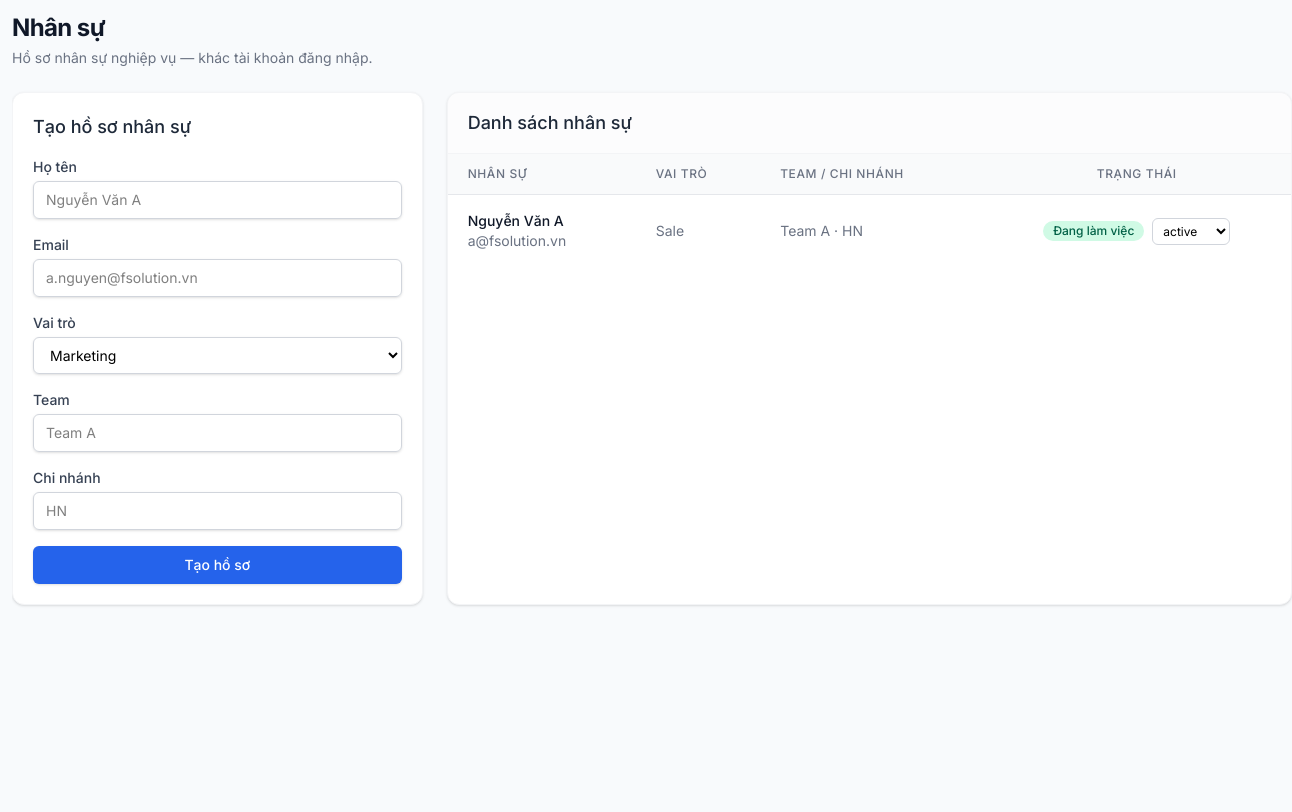
Scenario: EmployeesPage › hiển thị danh sách nhân sự và tạo mới qua form
The image size is (1292, 812).
expect the text "Nguyễn Văn A" is shown: met, box top-left (468, 212), bottom-right (564, 229)
Step 1. Type "Trần Thị B" into the field labelled "Họ tên" → {"x": 217, "y": 200}, box top-left (33, 181), bottom-right (402, 219)
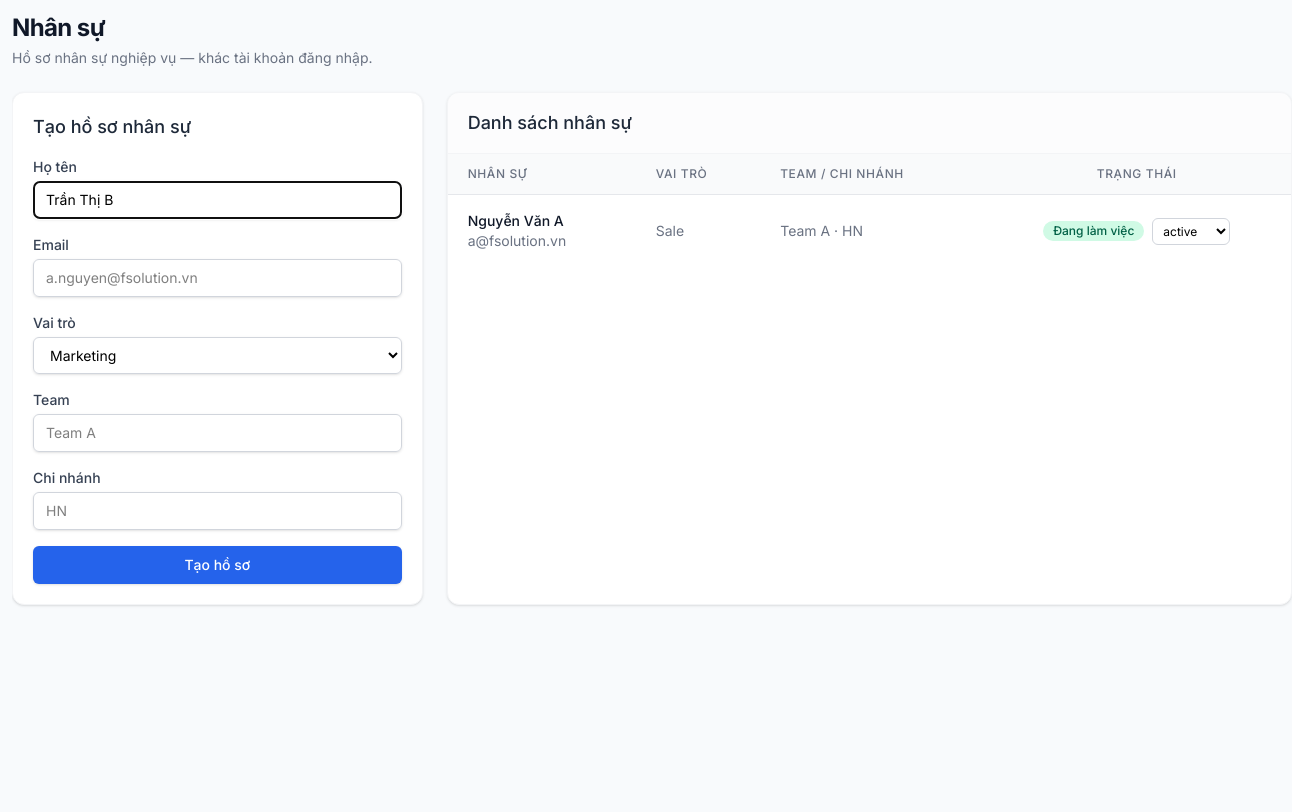
Step 2. Type "b@fsolution.vn" into the field labelled "Email" → {"x": 217, "y": 278}, box top-left (33, 259), bottom-right (402, 297)
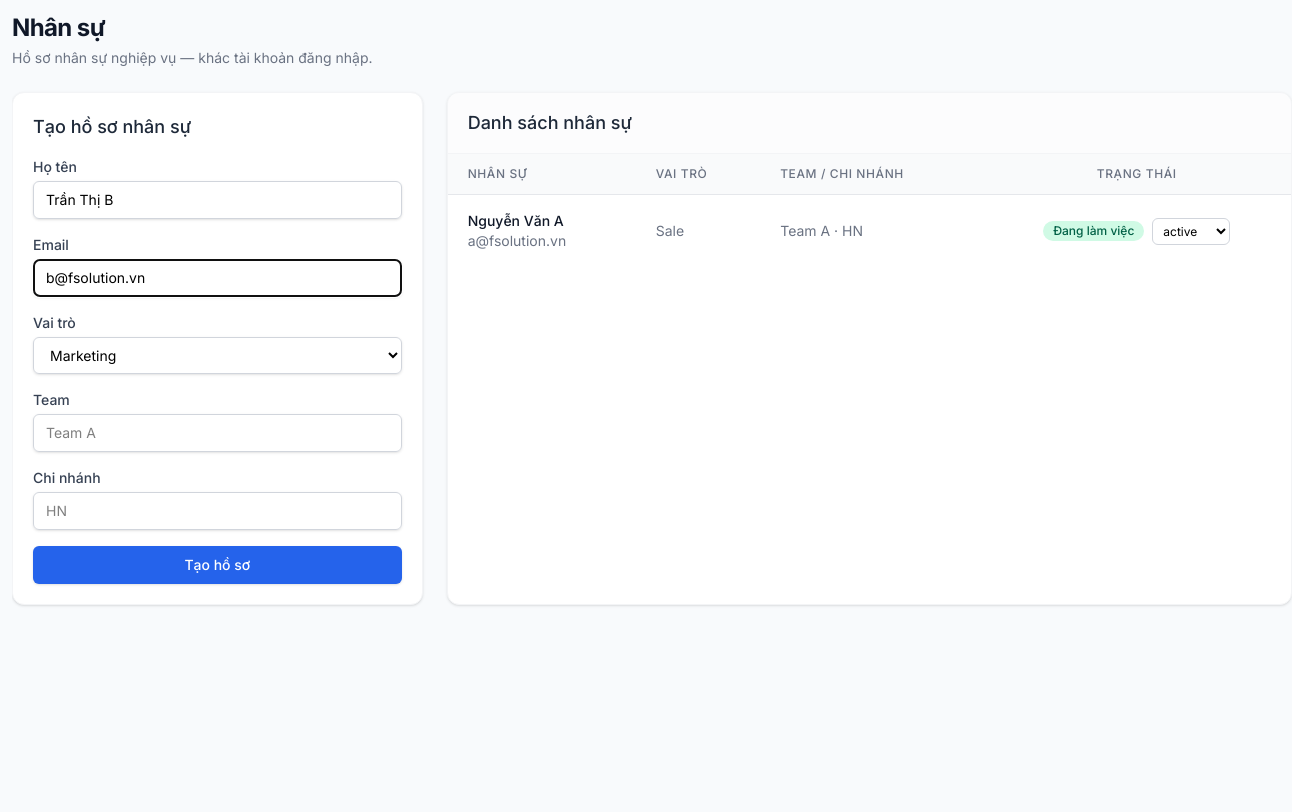
Step 3. Click the button "Tạo hồ sơ" → {"x": 217, "y": 565}, box top-left (33, 546), bottom-right (402, 584)
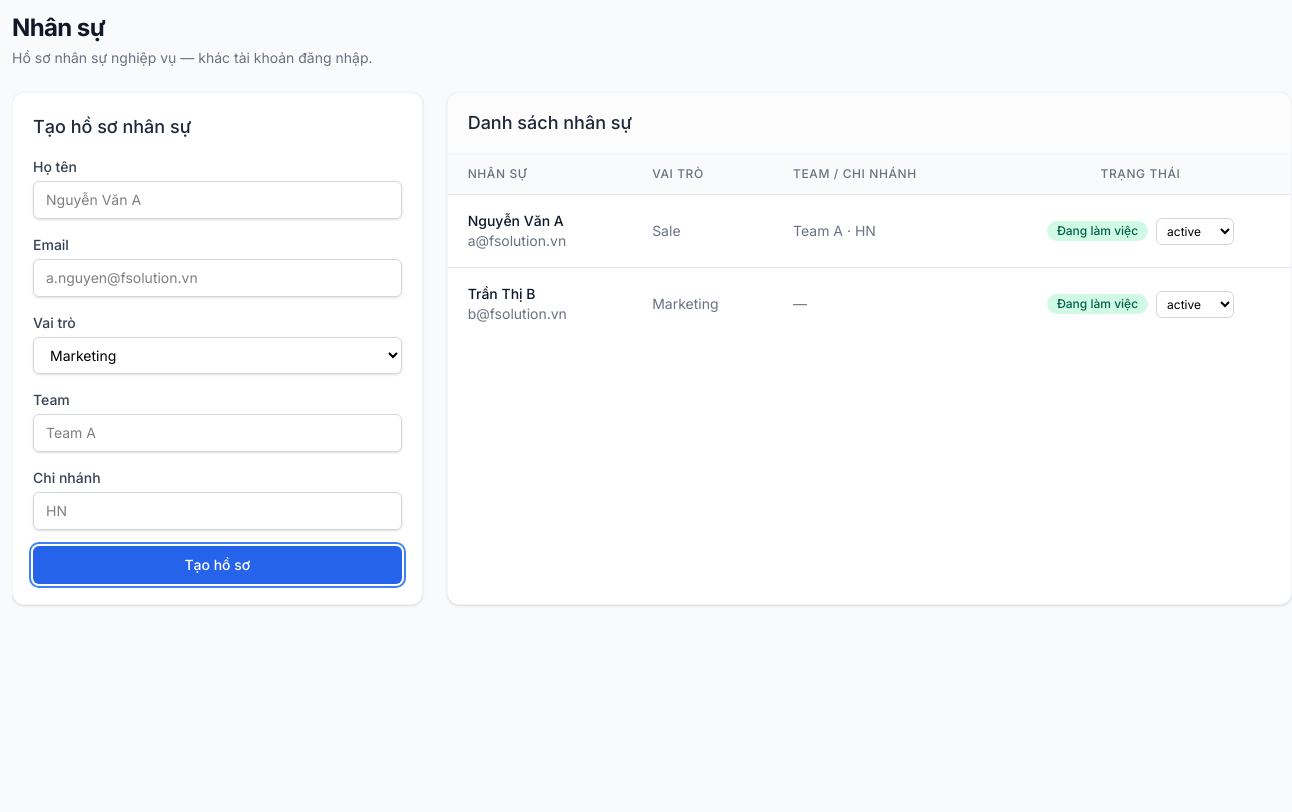
expect the text "Trần Thị B" is shown: met, box top-left (468, 285), bottom-right (536, 302)
